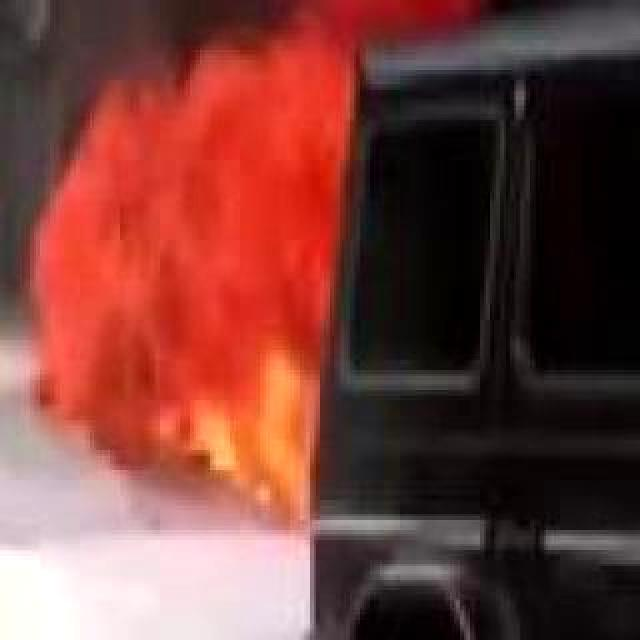fire: (40, 0, 494, 484)
